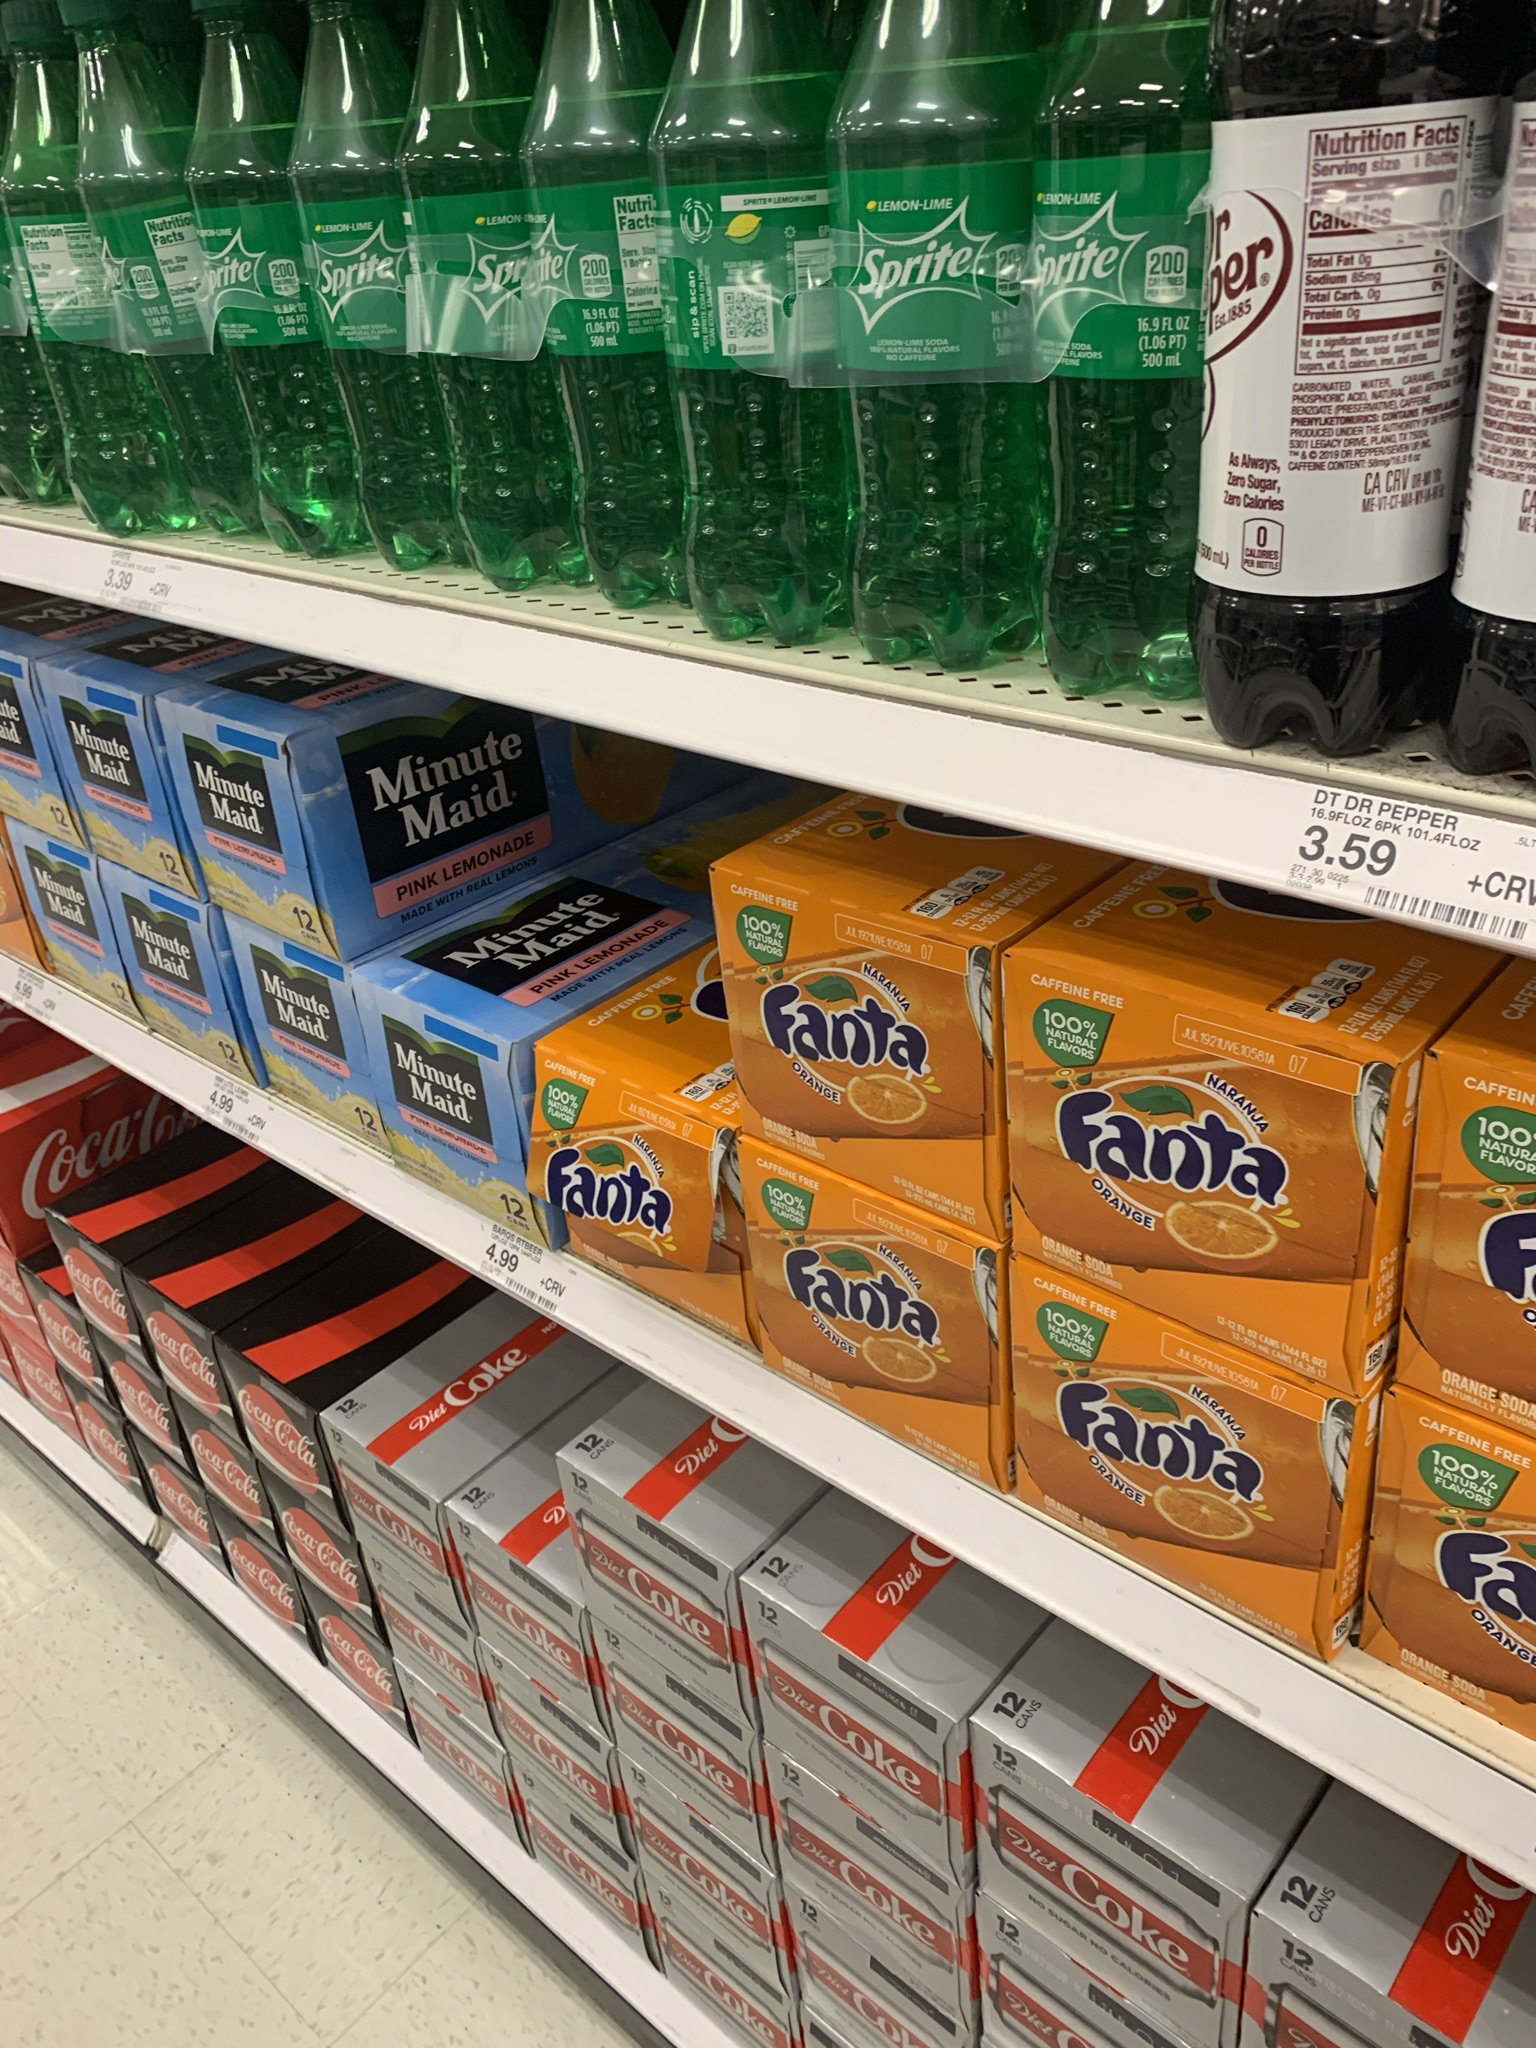Soda: (1205, 2, 1444, 756), (834, 2, 1028, 669), (1033, 2, 1199, 705), (657, 2, 833, 650)
